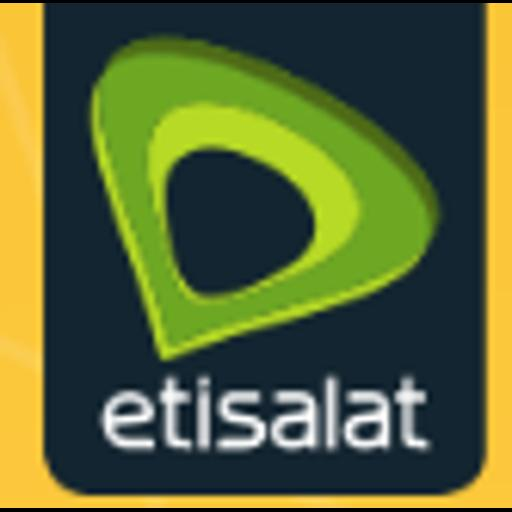Etisalat: (0, 3, 512, 508)
